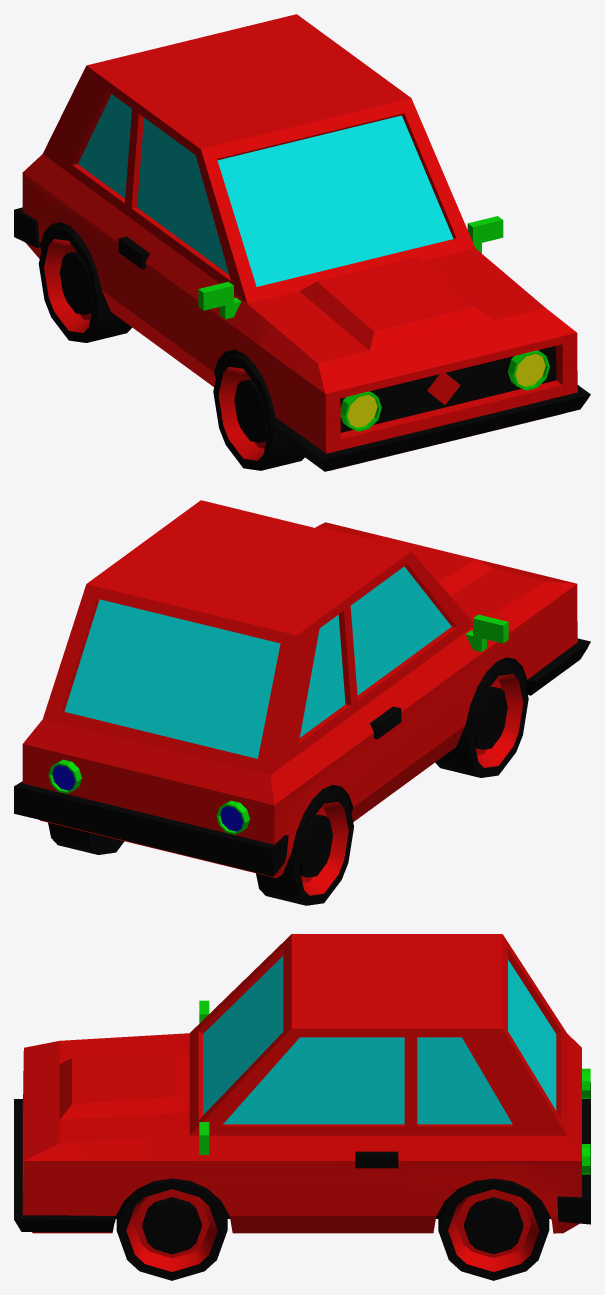
File: Car3.fbx
The picture shows the model from 3 angles, top to bottom: view 1: azimuth 30°, elevation 25°; view 2: azimuth 150°, elevation 25°; view 3: azimuth 270°, elevation 25°; orthographic projection. The views are drawn at different scales.
Parts seen in each view (by area): view 1: Car3; view 2: Car3; view 3: Car3.
Part boxes in pixels (<box>): Car3: <box>14,14,590,471</box>; Car3: <box>14,500,590,905</box>; Car3: <box>14,934,590,1280</box>.
Size of the model in its own units: 185 by 157 by 335.
